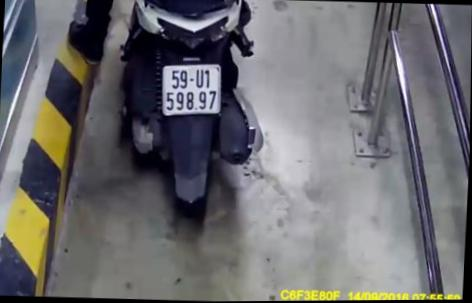LP: (159, 61, 225, 119)
